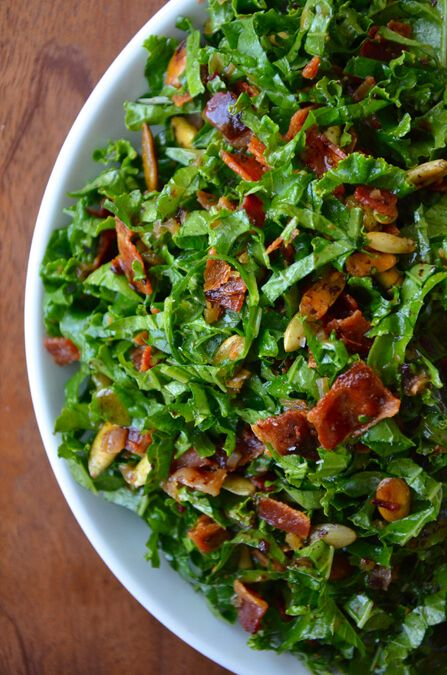bacon: (294, 356, 404, 459), (87, 418, 183, 476), (260, 484, 326, 537)
